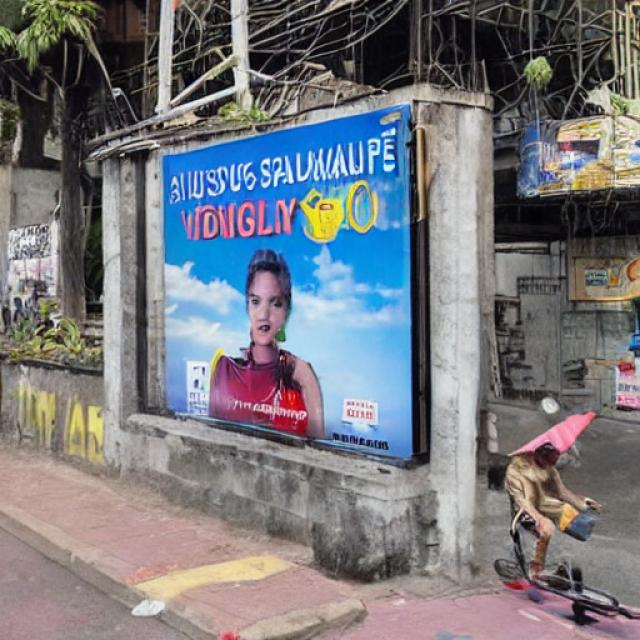Billboard: (160, 96, 430, 472)
